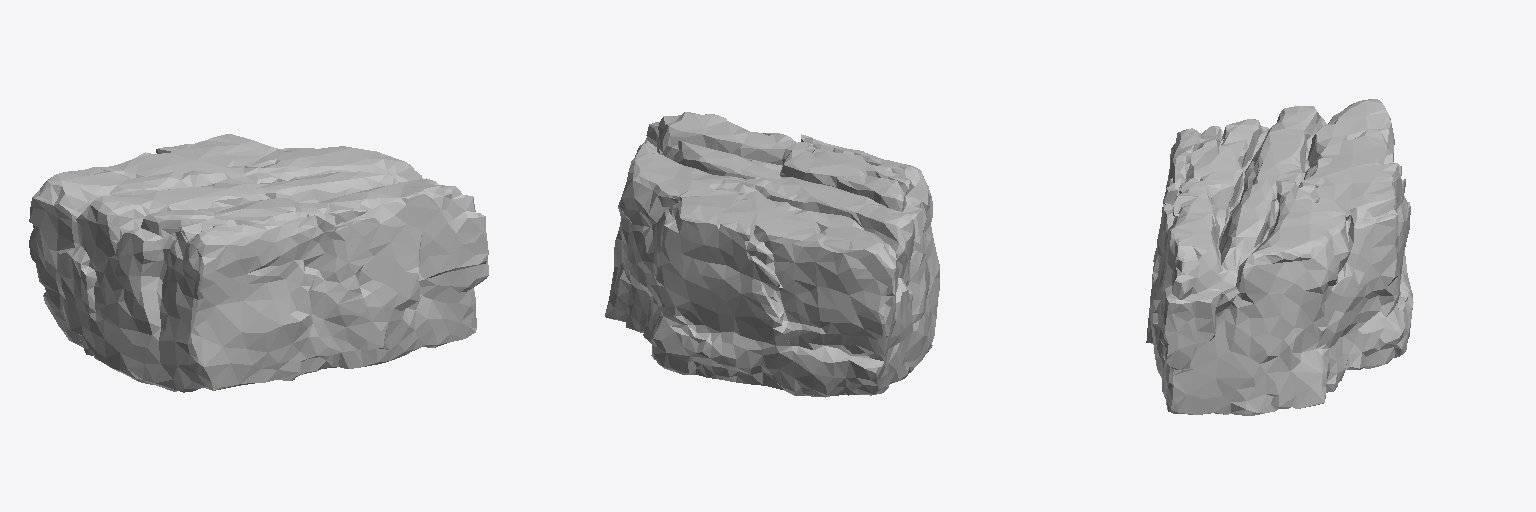
File: stone_3.obj
3 views of the same model, side by side, from view 1: azimuth 30°, elevation 25°; view 2: azimuth 150°, elevation 25°; view 3: azimuth 270°, elevation 25° (orthographic).
Visible parts, largest first — view 1: Aset_nature_rock_M_uisjbbis_LOD2; view 2: Aset_nature_rock_M_uisjbbis_LOD2; view 3: Aset_nature_rock_M_uisjbbis_LOD2.
Boxes of the visible parts, x1,y1,x2,y2 form: Aset_nature_rock_M_uisjbbis_LOD2: [29, 134, 488, 392]; Aset_nature_rock_M_uisjbbis_LOD2: [605, 112, 939, 397]; Aset_nature_rock_M_uisjbbis_LOD2: [1146, 99, 1413, 415].
Size of the model in its own units: 1.19 by 0.5245 by 0.7829.